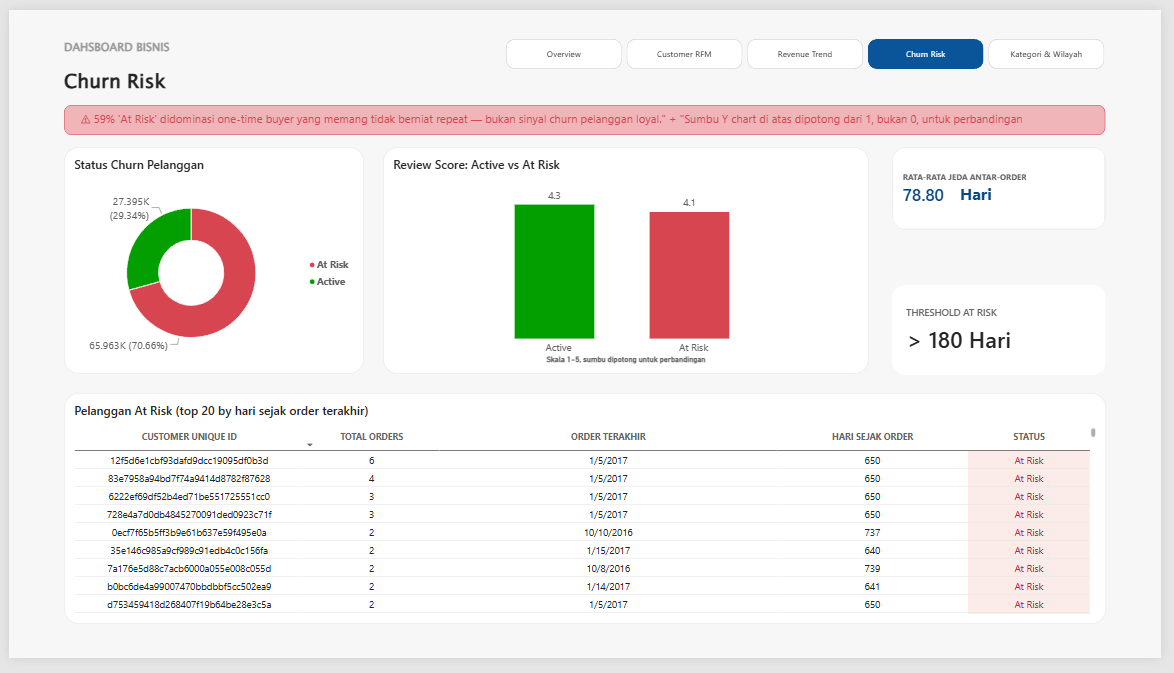

This screenshot's page, from the dashboard's own definition file:
{"tool":"powerbi","page":{"name":"Churn Risk","canvas":[1920,1080],"ordinal":3},"visuals":[{"type":"donutChart","title":"Status Churn Pelanggan","fields":{"Category":["ChurnStatus.churn_status"],"Y":["CountNonNull(ChurnStatus.customer_unique_id)"]},"box":[91.7,228.3,500,378.3],"z":0},{"type":"clusteredColumnChart","title":"Review Score: Active vs At Risk","fields":{"Category":["ReviewChurn.churn_status"],"Y":["Sum(ReviewChurn.rata_rata_reviews_score)"]},"box":[623.3,228.3,810,378.3],"z":1000},{"type":"cardVisual","title":"RATA-RATA JEDA ANTAR ORDER","fields":{"Data":["Sum(AvgGap.rata_rata_jeda_hari)"]},"box":[1471.7,228.3,356.7,138.3],"z":2000},{"type":"textbox","box":[1584.6,288.8,65,43.3],"z":3000},{"type":"tableEx","title":"Pelanggan At Risk (top 20 by hari sejak order terakhir)","fields":{"Values":["ChurnStatus.customer_unique_id","Sum(ChurnStatus.total_orders)","ChurnStatus.last_order_date","Sum(ChurnStatus.hari_sejak_order_terakhir)","ChurnStatus.churn_status"]},"box":[91.7,638.3,1736.7,385],"z":4000},{"type":"shape","box":[1472.1,457.5,356.2,150],"z":5000},{"type":"textbox","box":[1495.6,493.3,228.8,38.8],"z":6000},{"type":"textbox","box":[1496.1,522.6,228.8,57.5],"z":7000},{"type":"shape","box":[91.9,158.6,1735.7,50],"z":8000},{"type":"textbox","box":[120.5,168.6,1584.3,30],"z":9000},{"type":"textbox","box":[91.7,48.3,500,101.7],"z":10000},{"type":"pageNavigator","box":[828.7,48.1,1000,50],"z":11000}]}

Visuals, with their boxes in screenshot pixels (x1, y1, x2, y2), scaled from the page's 1920x1080 canvas onto the 1174x673 screenshot:
"Status Churn Pelanggan" donutChart: 56/142/362/378
"Review Score: Active vs At Risk" clusteredColumnChart: 381/142/876/378
"RATA-RATA JEDA ANTAR ORDER" cardVisual: 900/142/1118/228
textbox: 969/180/1009/207
"Pelanggan At Risk (top 20 by hari sejak order terakhir)" tableEx: 56/398/1118/638
shape: 900/285/1118/379
textbox: 914/307/1054/332
textbox: 915/326/1055/361
shape: 56/99/1118/130
textbox: 74/105/1042/124
textbox: 56/30/362/93
pageNavigator: 507/30/1118/61
